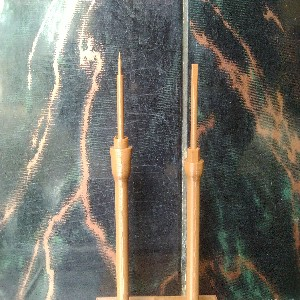obeng: (182, 63, 204, 300)
solder: (110, 50, 133, 300)
